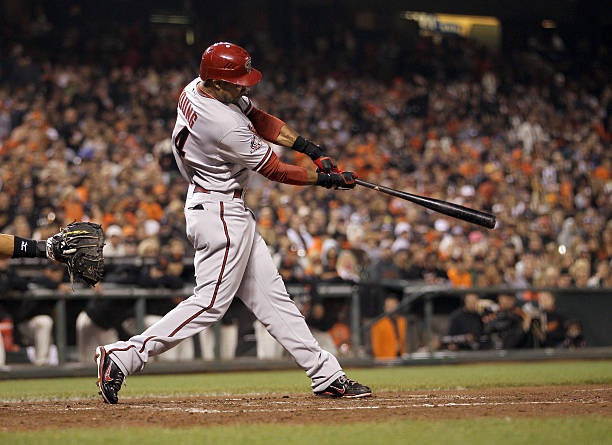bita: (345, 174, 496, 226)
